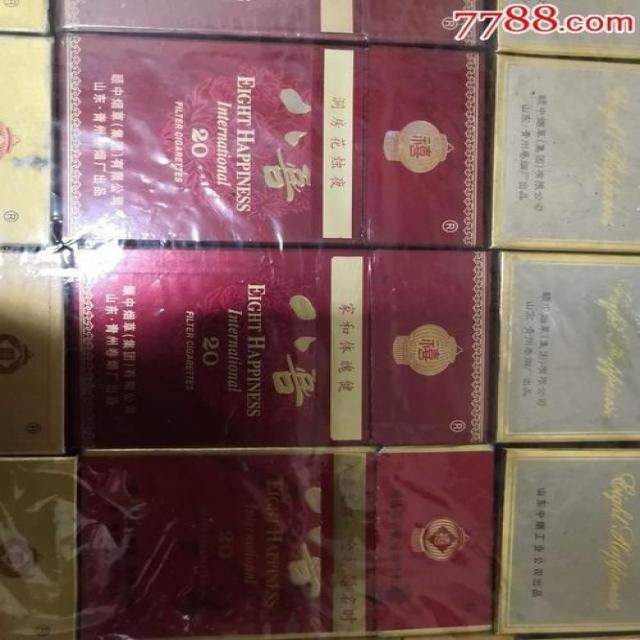box: (52, 34, 494, 254), (65, 244, 495, 454), (74, 446, 494, 638), (489, 54, 640, 252), (489, 250, 640, 444), (492, 440, 640, 634), (52, 0, 493, 51), (0, 244, 73, 457), (0, 457, 76, 640), (0, 32, 60, 248), (486, 0, 640, 66), (0, 0, 55, 35)
